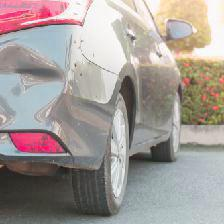bumper_dent: (1, 38, 85, 128)
